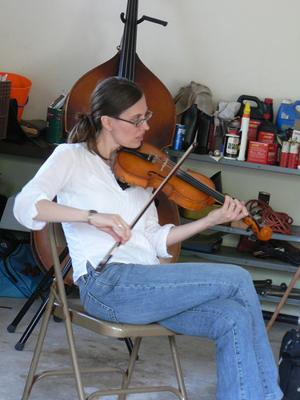person: (14, 76, 286, 400)
